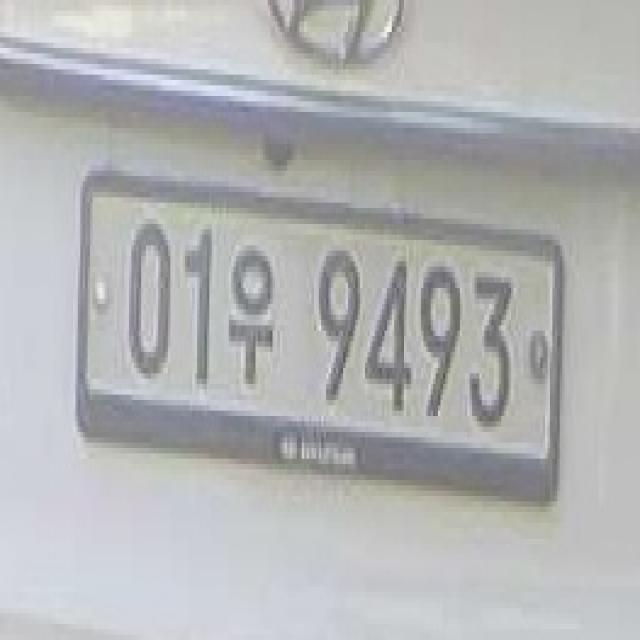0: (128, 206, 174, 393)
1: (180, 213, 220, 400)
3: (468, 258, 514, 438)
4: (368, 247, 416, 420)
9: (314, 244, 366, 412), (418, 260, 465, 430)
license_plate: (78, 163, 571, 504)
u: (228, 234, 285, 398)
